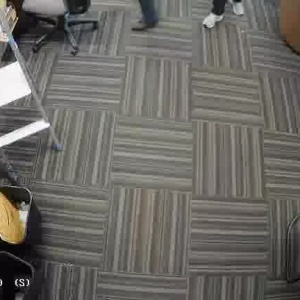person: (198, 0, 245, 32), (132, 0, 161, 33)
